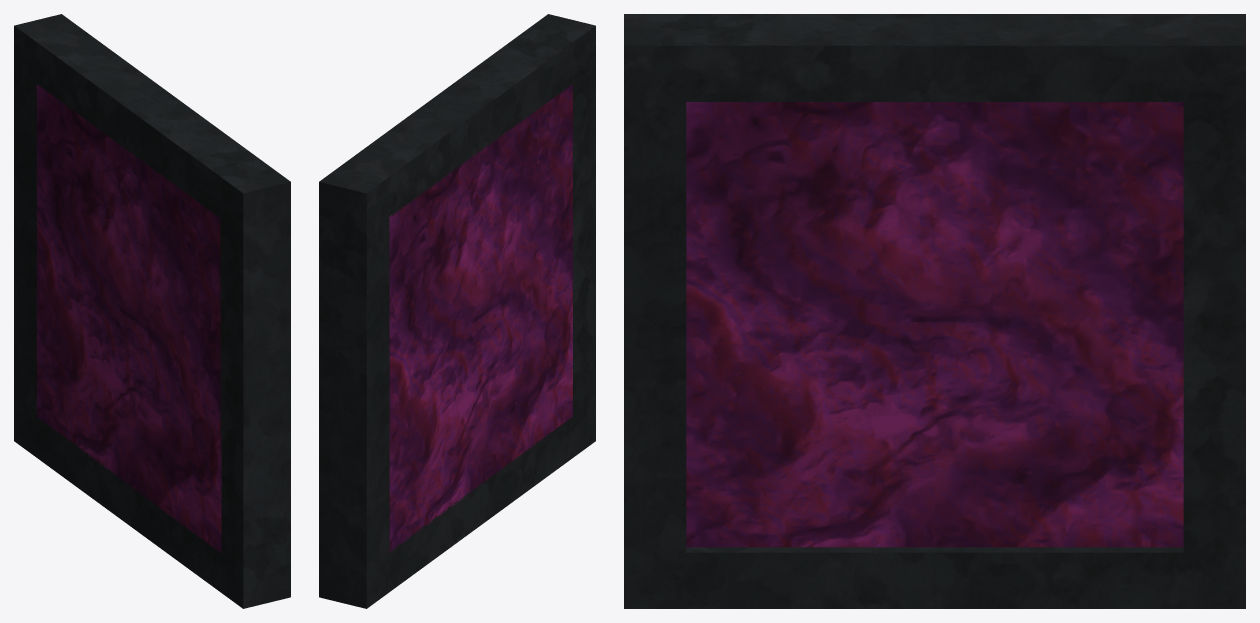
The model's file is pool.glb.
3 renders of one model, left to right at view 1: azimuth 30°, elevation 25°; view 2: azimuth 150°, elevation 25°; view 3: azimuth 270°, elevation 25°, orthographic. The views are drawn at different scales.
Visible parts, largest first — view 1: mergedBlocks(Clone); view 2: mergedBlocks(Clone); view 3: mergedBlocks(Clone).
Part boxes in pixels (x1,y1,x2,y2): mergedBlocks(Clone): [14, 14, 290, 608]; mergedBlocks(Clone): [319, 14, 595, 608]; mergedBlocks(Clone): [624, 14, 1245, 608].
Size of the model in its own units: 0.12 by 1 by 1.
Materials: 2 (2 with a texture image).
